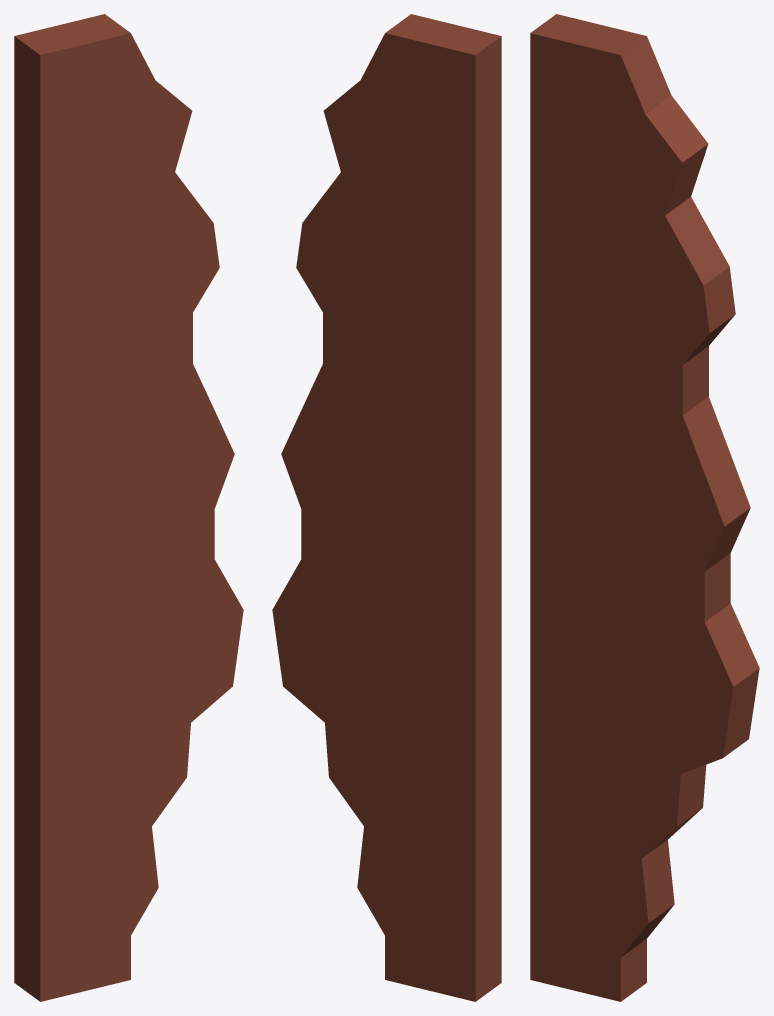
Rendered from tile07.001.glb.
The picture shows the model from 3 angles, left to right: view 1: azimuth 30°, elevation 25°; view 2: azimuth 150°, elevation 25°; view 3: azimuth 330°, elevation 25°; orthographic projection.
Visible parts, largest first — view 1: 07.001; view 2: 07.001; view 3: 07.001.
Boxes of the visible parts, x1,y1,x2,y2 form: 07.001: [14, 14, 243, 1001]; 07.001: [272, 14, 501, 1001]; 07.001: [530, 14, 759, 1001].
Size of the model in its own units: 0.4492 by 2 by 0.1.
1 material, 1 textured.
